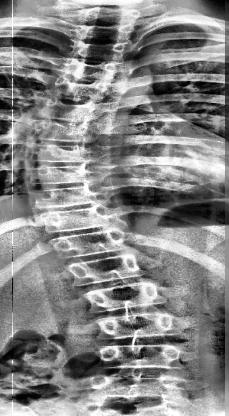Vertebrae: (90, 370, 190, 406), (94, 308, 182, 342), (67, 252, 151, 286), (97, 341, 185, 373), (83, 282, 165, 312), (52, 228, 126, 258), (31, 118, 101, 147), (29, 140, 96, 168), (38, 208, 109, 234), (36, 99, 98, 125), (33, 185, 99, 209), (32, 164, 94, 188), (50, 78, 106, 104), (57, 56, 116, 80), (68, 40, 126, 64), (74, 24, 134, 44), (77, 7, 139, 25)
